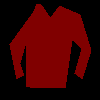abbigliamento_uomo: (9, 3, 91, 88)
